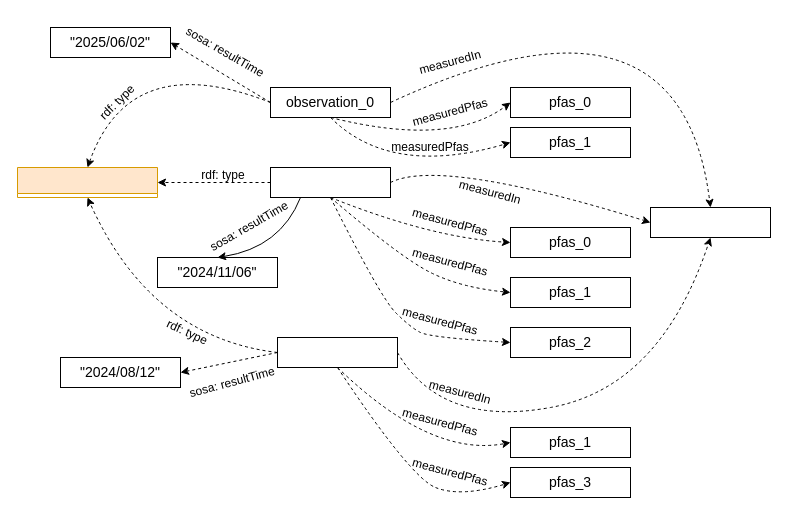
This 788x515 diagram has some shape labels left out. Here are the shapes that lost their labels. From the top down, the centre of each, then its label:
At point 87,182: "sosa: Observation".
At point 330,182: "observation_1".
At point 710,222: "location_X".
At point 337,352: "observation_2".
